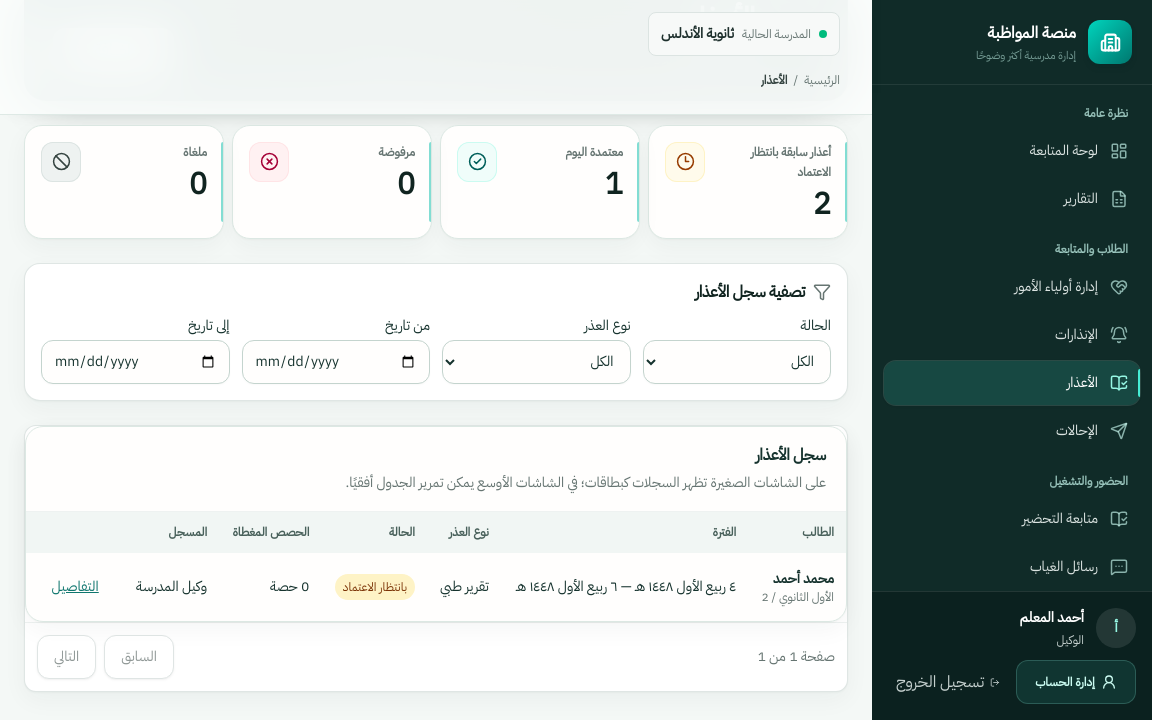
excuses page (Phase 10) › previews coverage and warns about incomplete days before approval
The image size is (1152, 720).
(page scrolled)
Click the button with test id "open-excuse-7": coordinates (75, 587) [39,565,111,609]
(page scrolled)
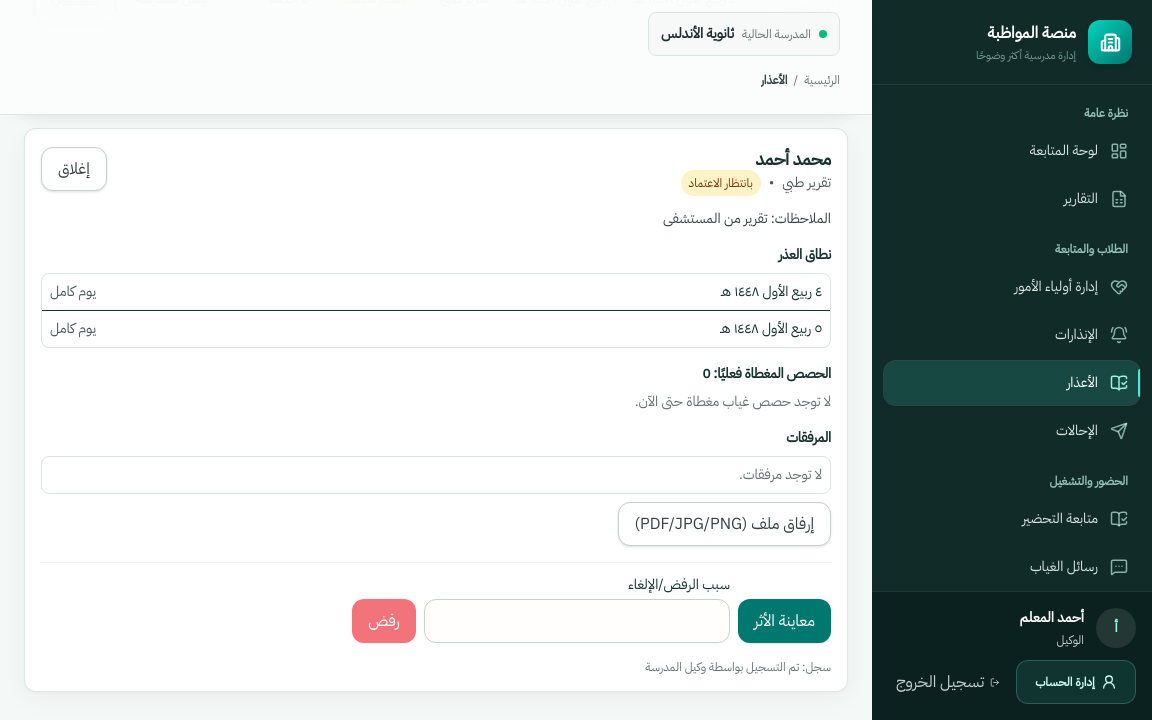
Click the button with test id "preview-excuse": coordinates (784, 621) [738,599,831,643]
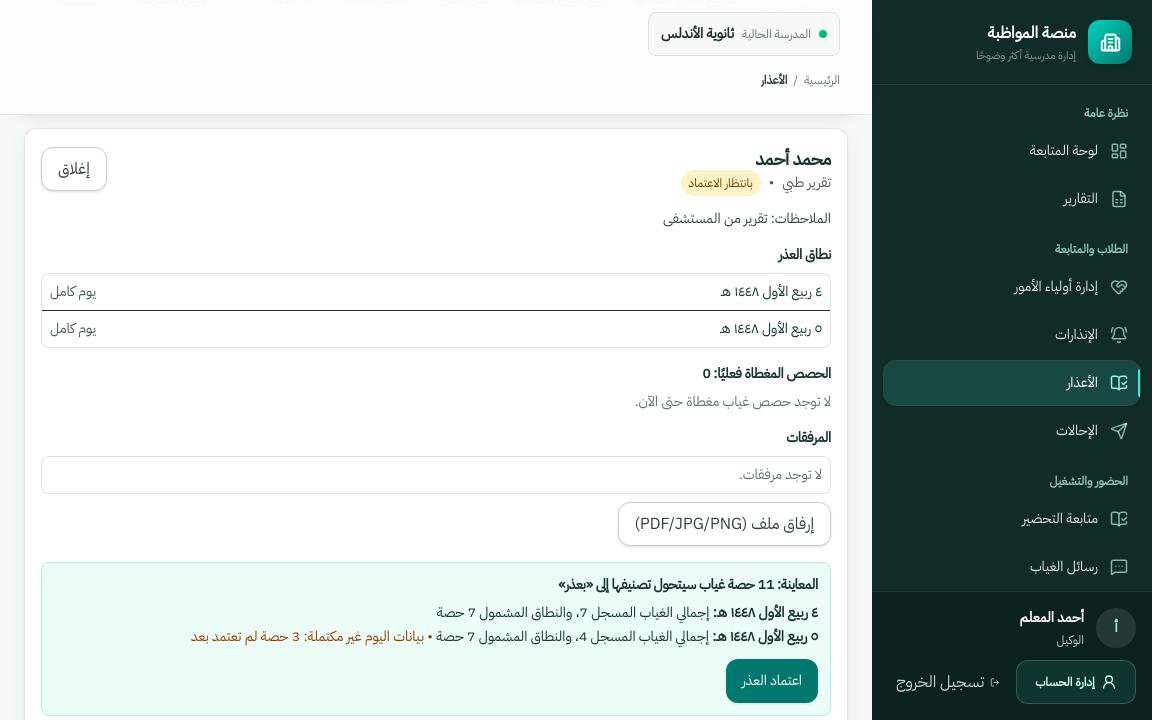
expect the element with test id "excuse-preview" shows "11 حصة غياب سيتحول تصنيفها": met, box [41,562,831,716]
expect the element with test id "excuse-preview" shows "بيانات اليوم غير مكتملة: 3 حصة لم تعتمد بعد": met, box [41,562,831,716]
